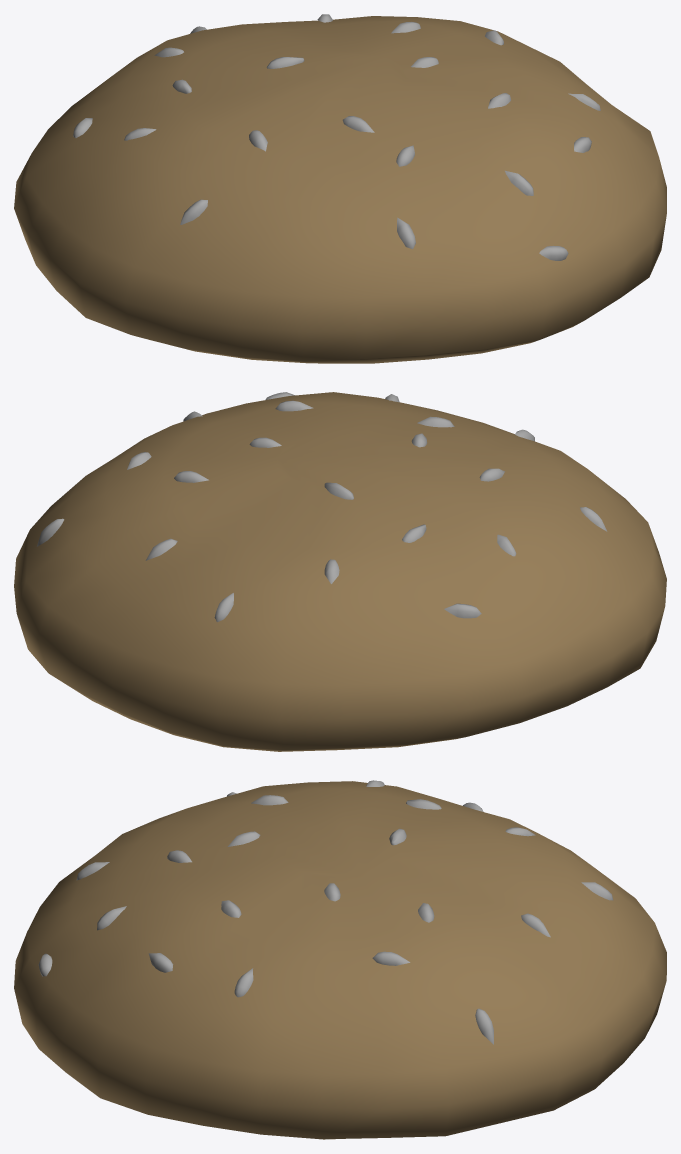
The model's file is bukla2.fbx.
3 views of the same model, one above another, from view 1: azimuth 30°, elevation 25°; view 2: azimuth 150°, elevation 25°; view 3: azimuth 270°, elevation 25° (orthographic).
Parts seen in each view (by area): view 1: Sphere.002; view 2: Sphere.002; view 3: Sphere.002.
Boxes of the visible parts, left/top/right/bottom form: Sphere.002: left=14, top=14, right=666, bottom=363; Sphere.002: left=14, top=392, right=666, bottom=751; Sphere.002: left=14, top=780, right=666, bottom=1139.
Bounding box in the file's own units: 89.41 × 25.71 × 89.42.
